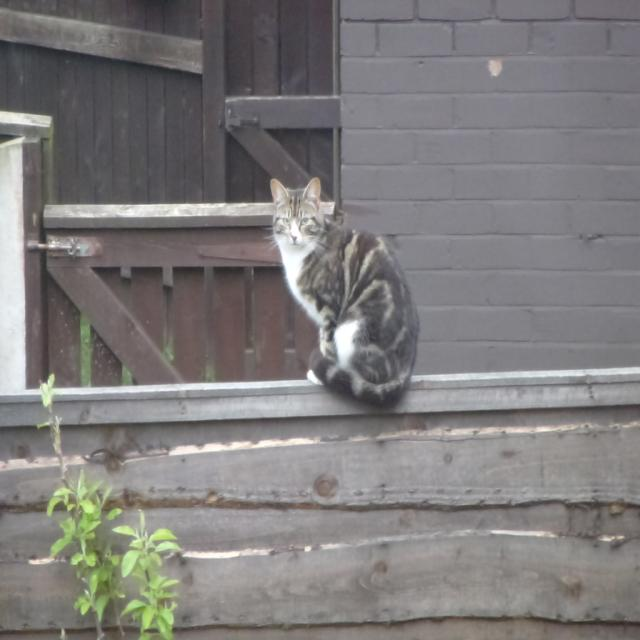Cat: (266, 176, 418, 412)
